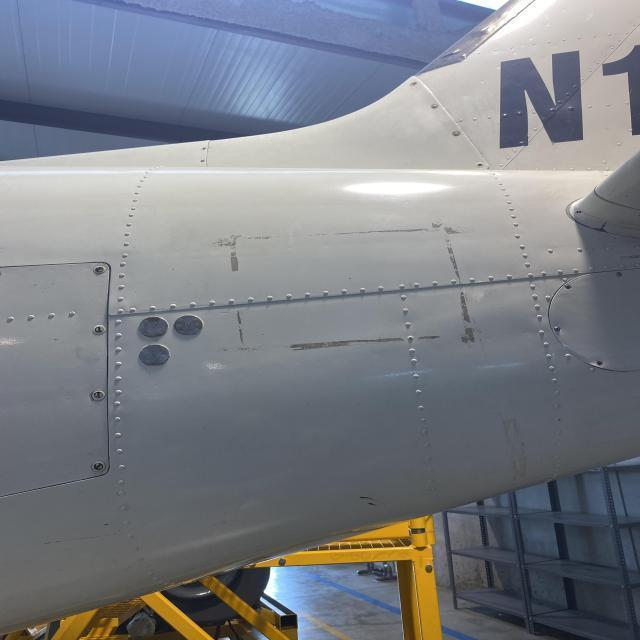Fastener Damage: (594, 360, 606, 370), (408, 81, 418, 87), (474, 162, 486, 167), (201, 148, 206, 150)
